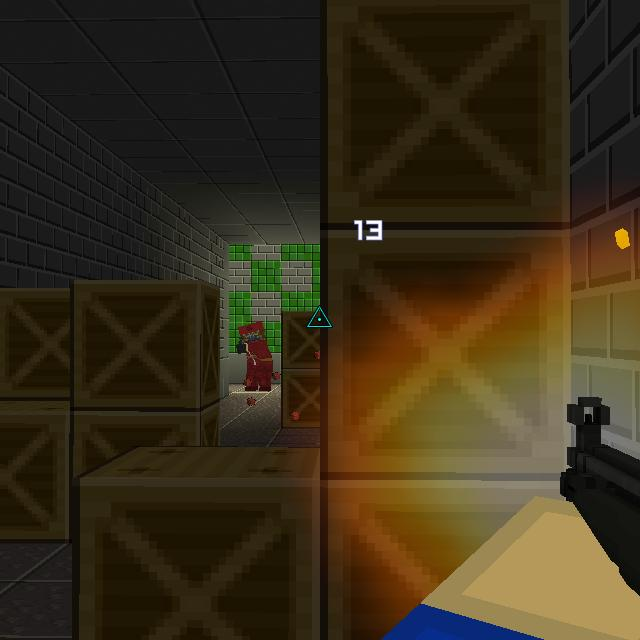enemy: (234, 321, 274, 392)
